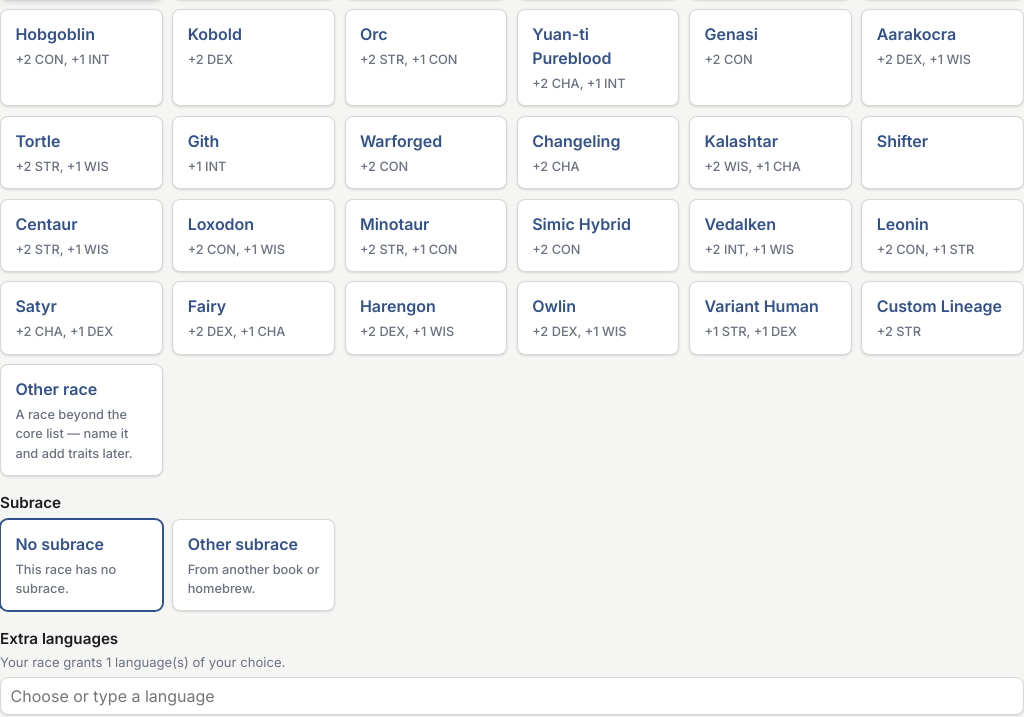
Test: RaceStep › asks a Human their bonus language, without suggesting one they have
(page scrolled)
Expected: the text "Extra languages" is shown, top-left (0, 629), bottom-right (118, 648)
Click the field with placeholder "Choose or type a language". click: x=512, y=696
box: top-left (0, 676), bottom-right (1023, 714)
(page scrolled)
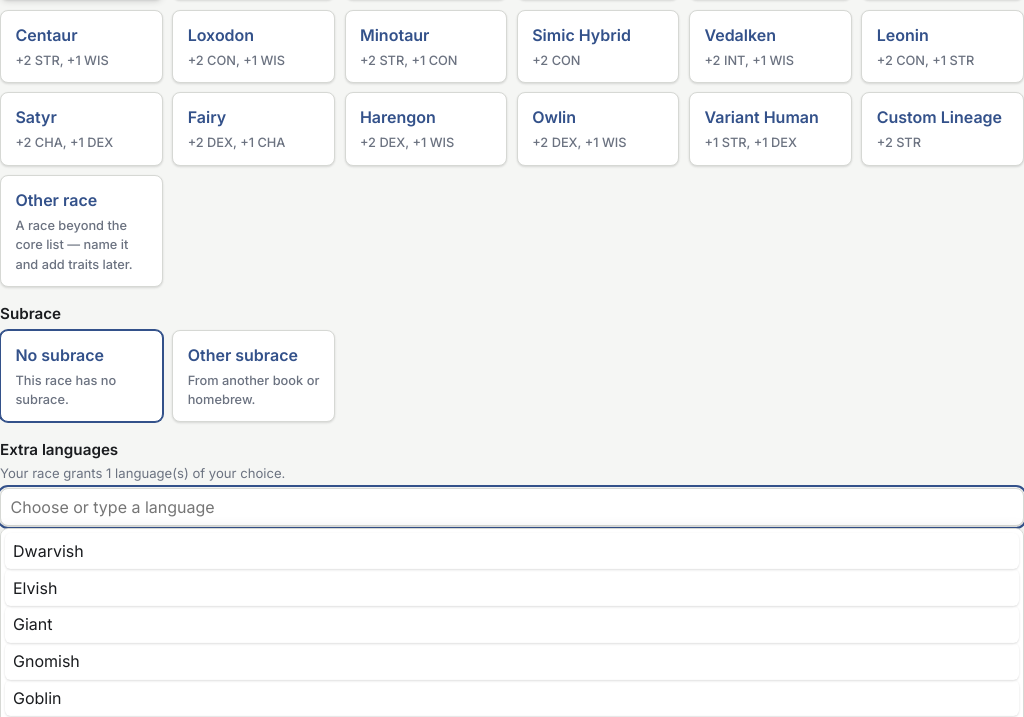
Expected: the button "Elvish" is shown, top-left (5, 569), bottom-right (1019, 606)
